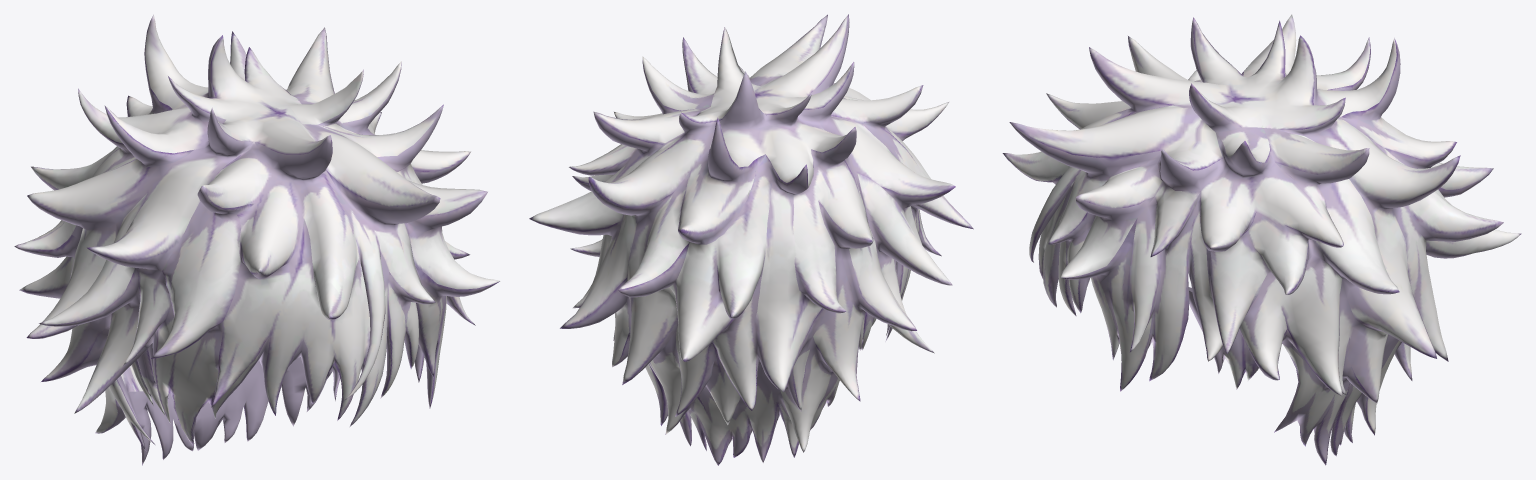
Rendered from gojohair.10d70c.glb.
The picture shows the model from 3 angles, left to right: view 1: azimuth 30°, elevation 25°; view 2: azimuth 150°, elevation 25°; view 3: azimuth 270°, elevation 25°; orthographic projection. The views are drawn at different scales.
Parts seen in each view (by area): view 1: Object_20; view 2: Object_20; view 3: Object_20.
Part boxes in pixels (box(x1,y1,x2,y2)): Object_20: box(14, 14, 500, 465); Object_20: box(529, 14, 973, 465); Object_20: box(1002, 14, 1521, 465).
Bounding box in the file's own units: 0.1565 × 0.1534 × 0.1775.
Materials: 1 (1 with a texture image).
